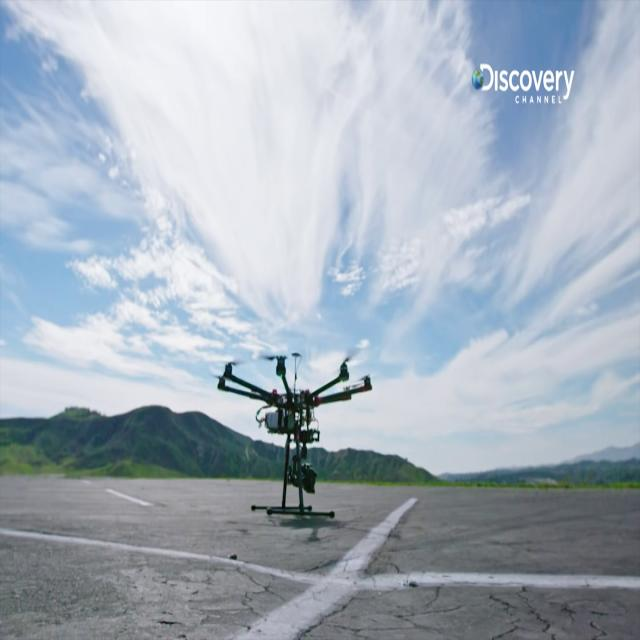drone: (215, 306, 379, 530)
